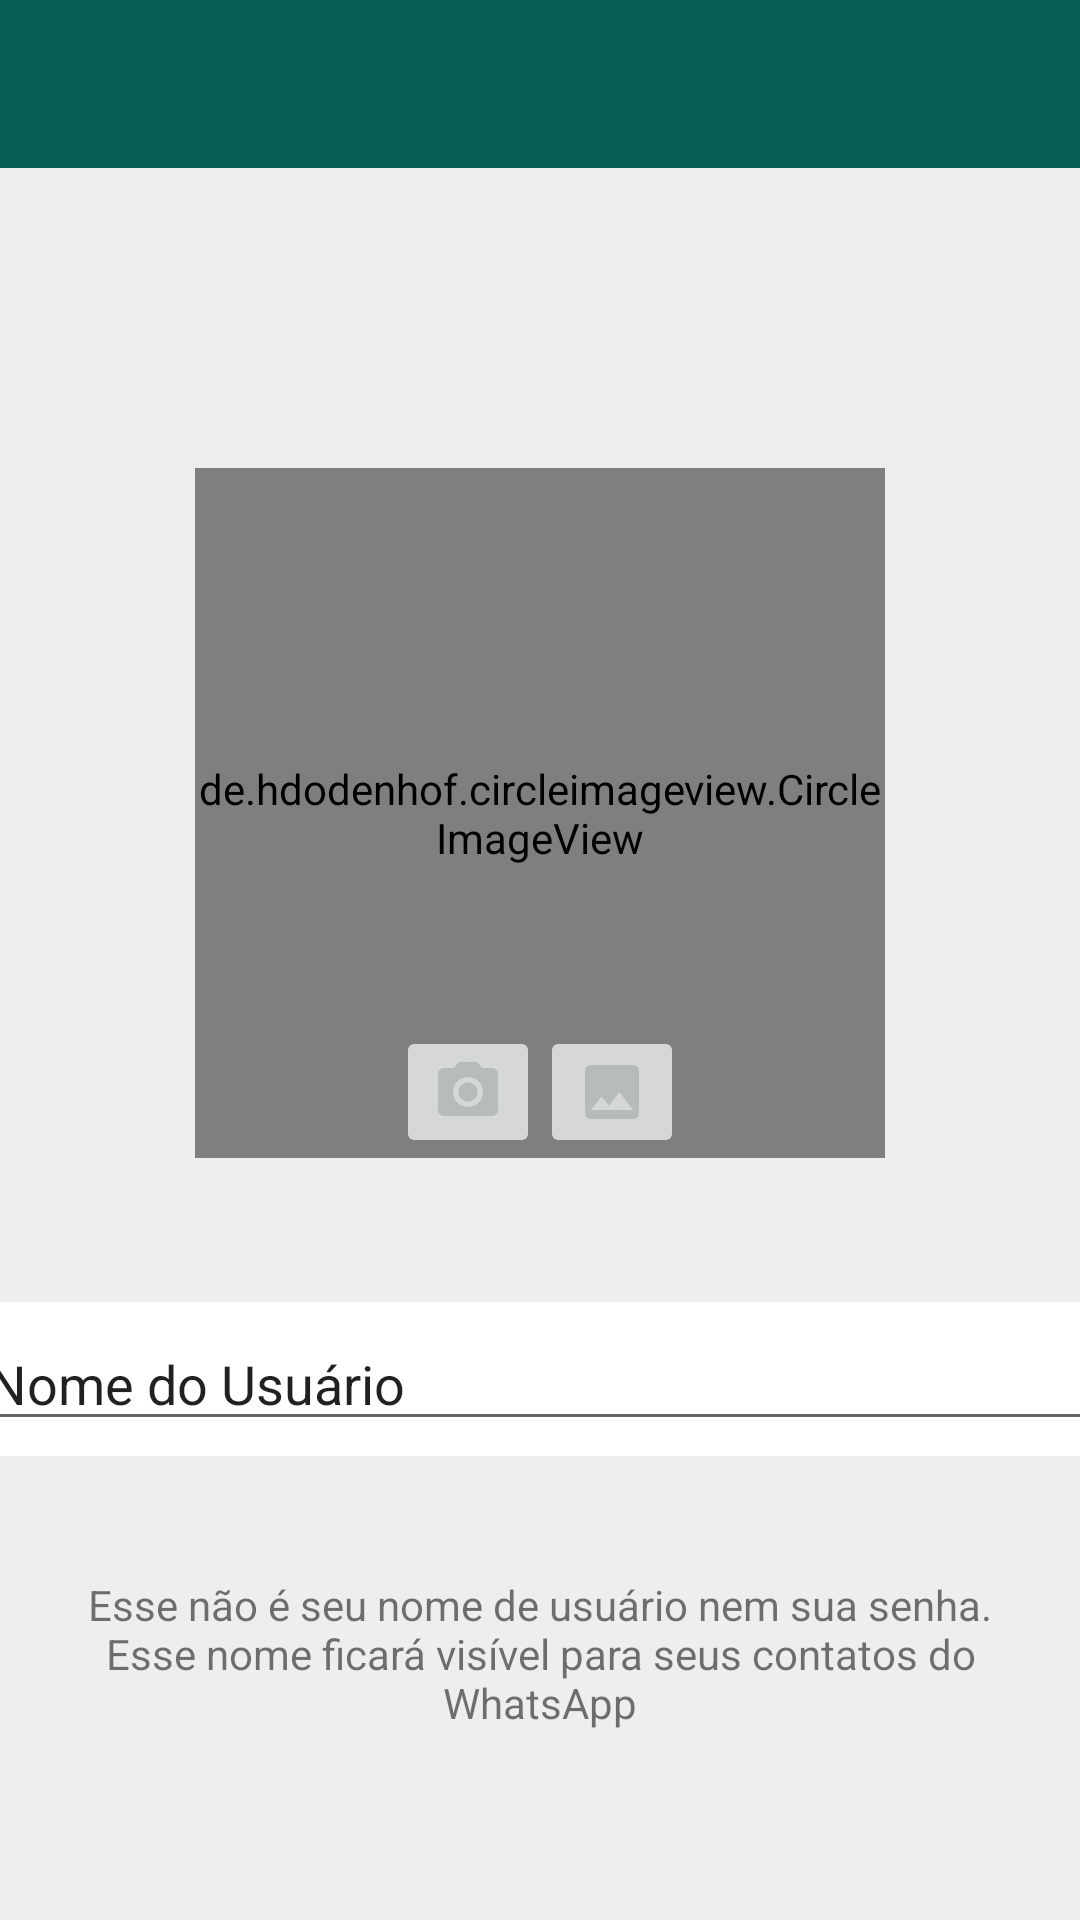

Screen size 1080×1920. Icon name, then its box in pixels as [left=x1, top=y1, right=x2, bottom=y2]:
photo: [left=552, top=1044, right=672, bottom=1140]
photo camera: [left=408, top=1044, right=528, bottom=1140]
